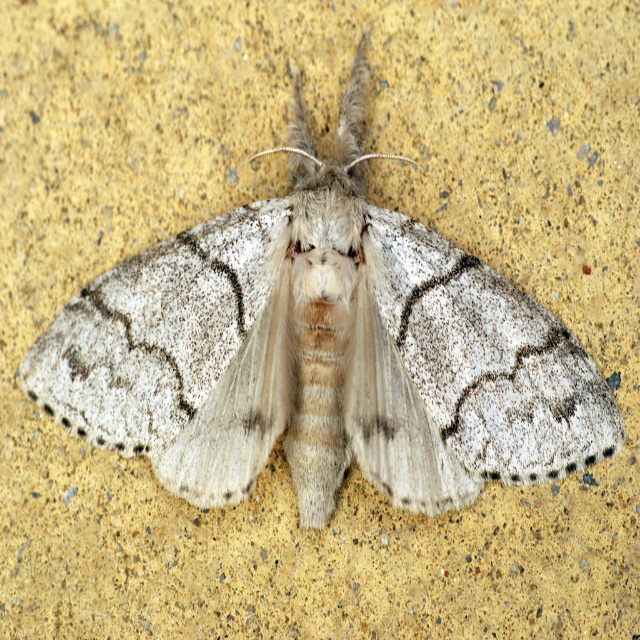Moths and butterflies: (17, 21, 629, 536)
